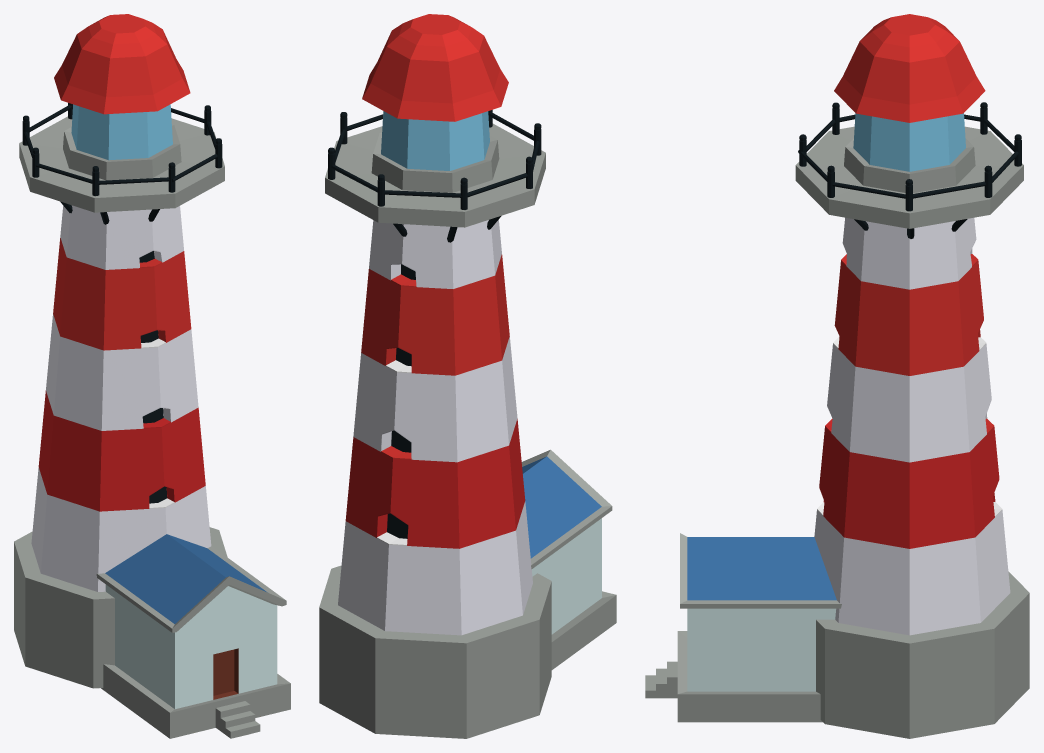
The model's file is FAROLLL.fbx.
3 renders of one model, left to right at view 1: azimuth 30°, elevation 25°; view 2: azimuth 150°, elevation 25°; view 3: azimuth 270°, elevation 25°, orthographic. The views are drawn at different scales.
Visible parts, largest first — view 1: FAROL.001, Cylinder.001; view 2: FAROL.001, Cylinder.001; view 3: FAROL.001, Cylinder.001.
Boxes of the visible parts, x1,y1,x2,y2 form: FAROL.001: (14, 14, 290, 738); Cylinder.001: (71, 104, 172, 160); FAROL.001: (319, 14, 616, 738); Cylinder.001: (381, 111, 489, 170); FAROL.001: (645, 14, 1029, 738); Cylinder.001: (853, 113, 965, 171).
Bounding box in the file's own units: 2845 × 8710 × 4558.
